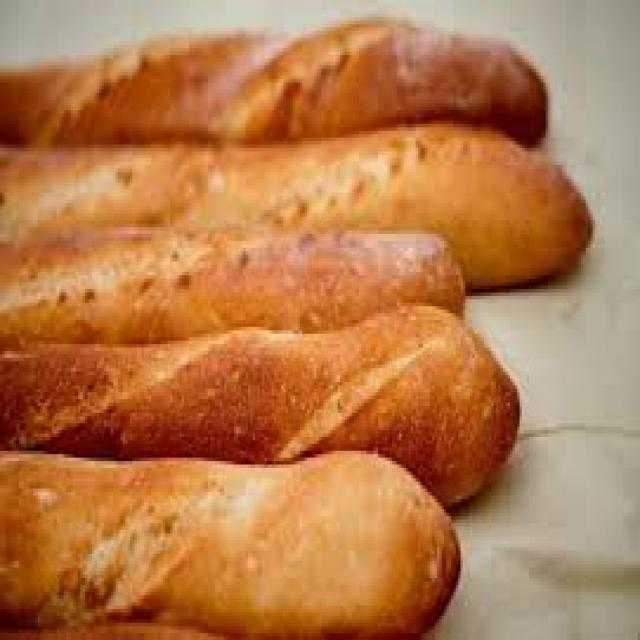organic waste: (0, 296, 520, 513), (0, 117, 593, 286), (0, 448, 458, 636), (0, 17, 548, 152), (0, 213, 463, 354)
